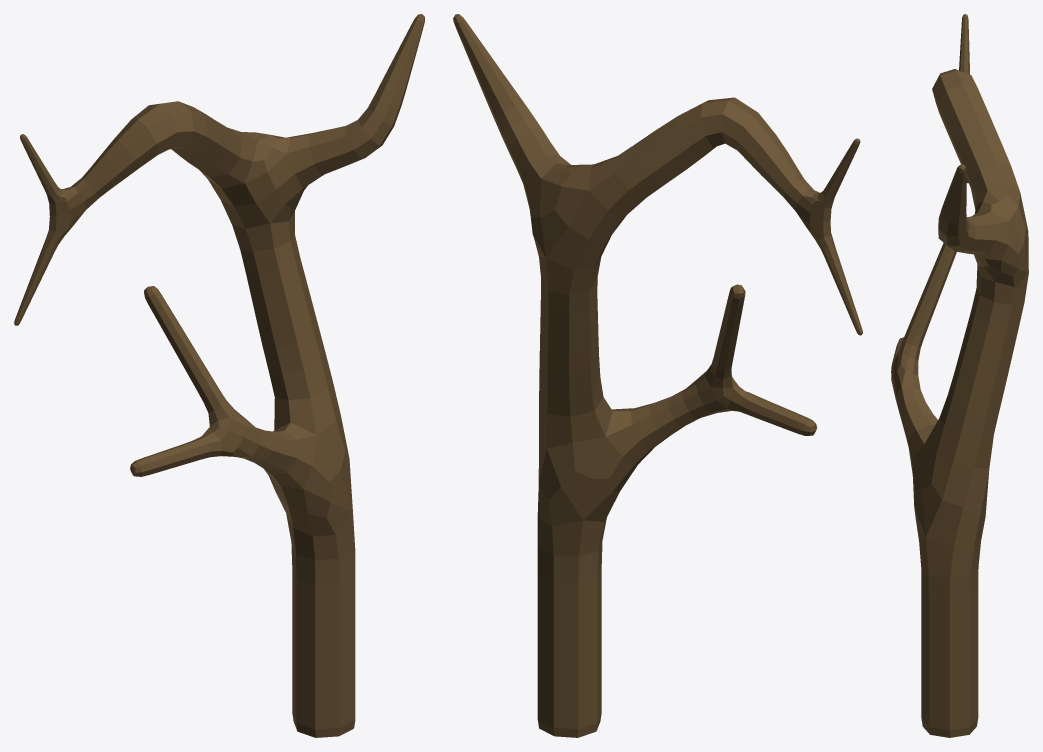
The model's file is RamaG01.fbx.
3 views of the same model, side by side, from view 1: azimuth 30°, elevation 25°; view 2: azimuth 150°, elevation 25°; view 3: azimuth 270°, elevation 25° (orthographic). The views are drawn at different scales.
Parts seen in each view (by area): view 1: Plane.001; view 2: Plane.001; view 3: Plane.001.
Part boxes in pixels (bbox=[...]): Plane.001: bbox=[14, 14, 424, 737]; Plane.001: bbox=[453, 14, 862, 737]; Plane.001: bbox=[891, 14, 1028, 737].
Bounding box in the file's own units: 338 × 544 × 111.
